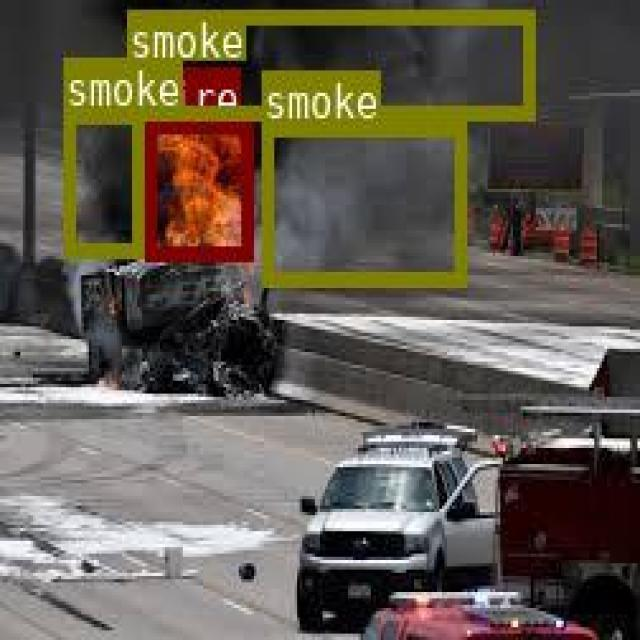fire: (144, 116, 250, 257)
smoke: (126, 9, 532, 117), (260, 120, 464, 283), (63, 109, 140, 255)
